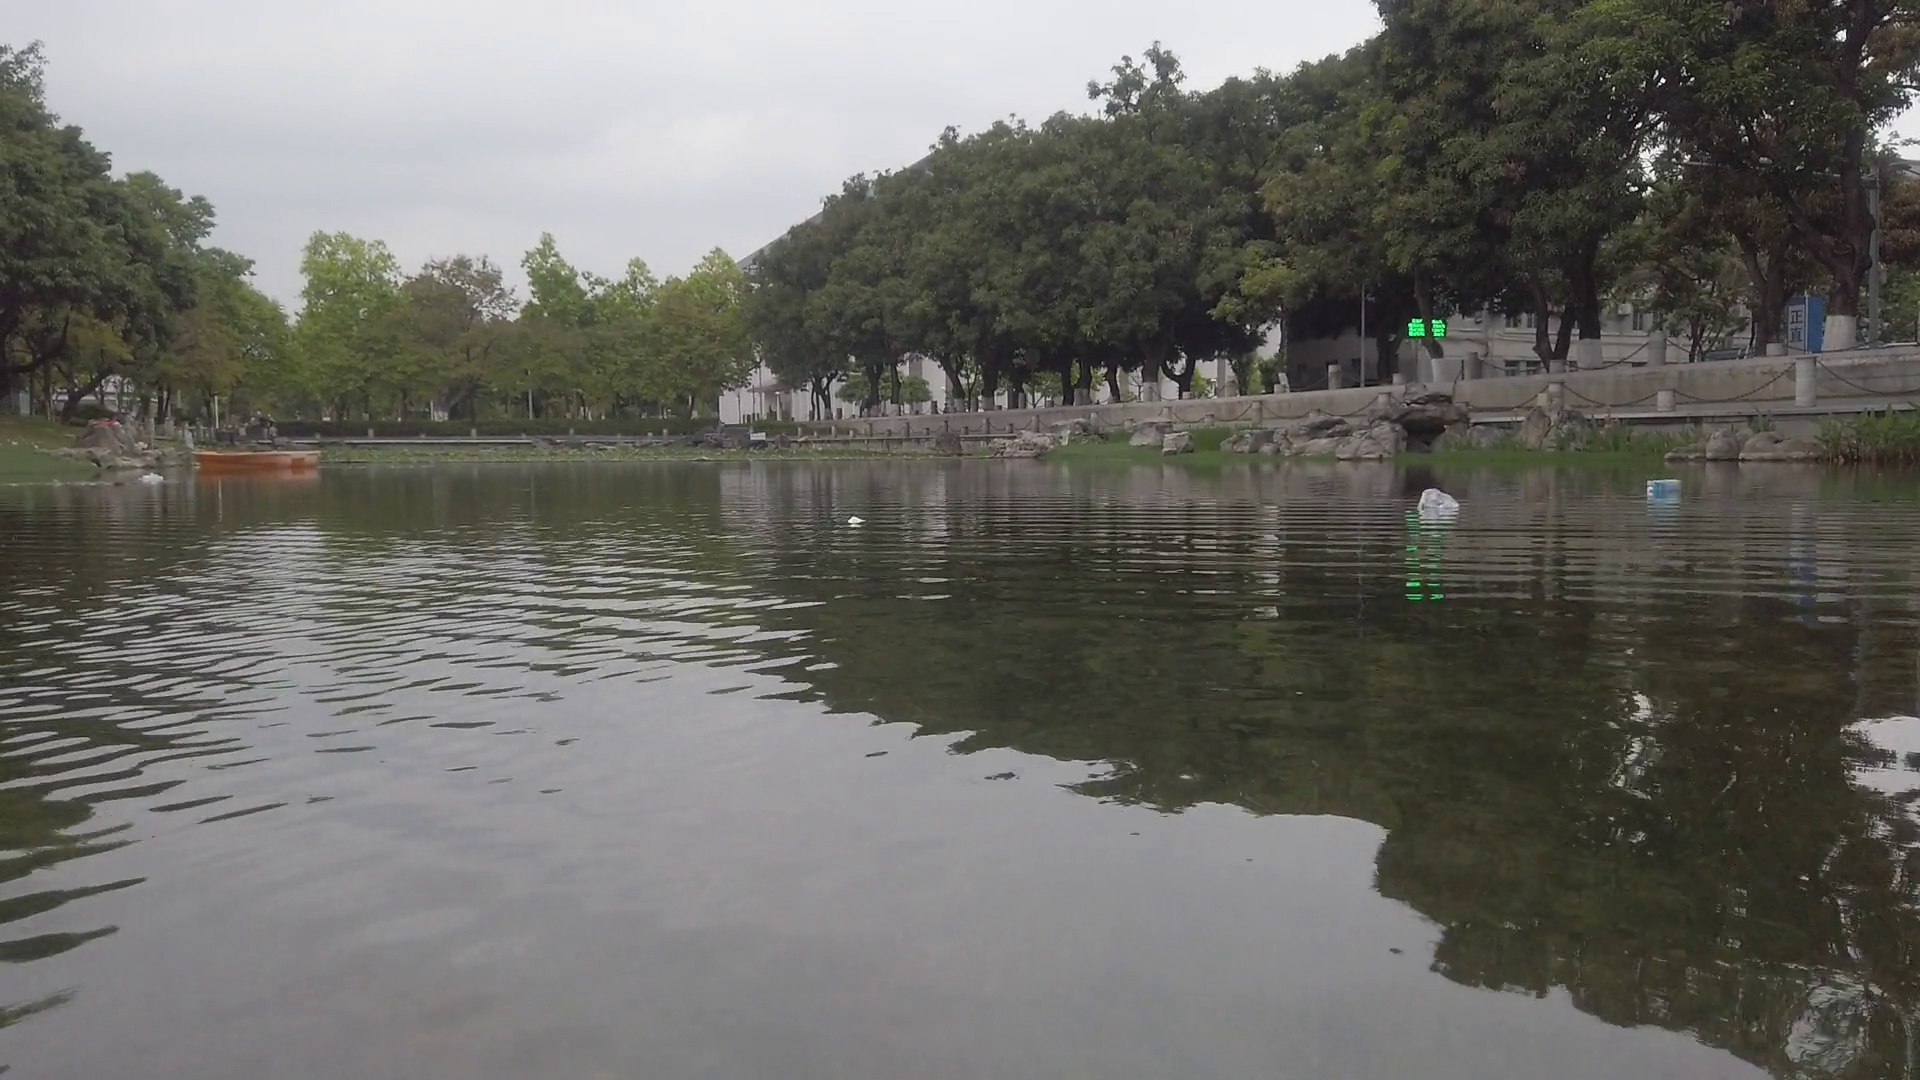carton: (1650, 479, 1681, 491), (849, 513, 864, 525)
plastic: (1420, 491, 1458, 516), (138, 469, 165, 485)
